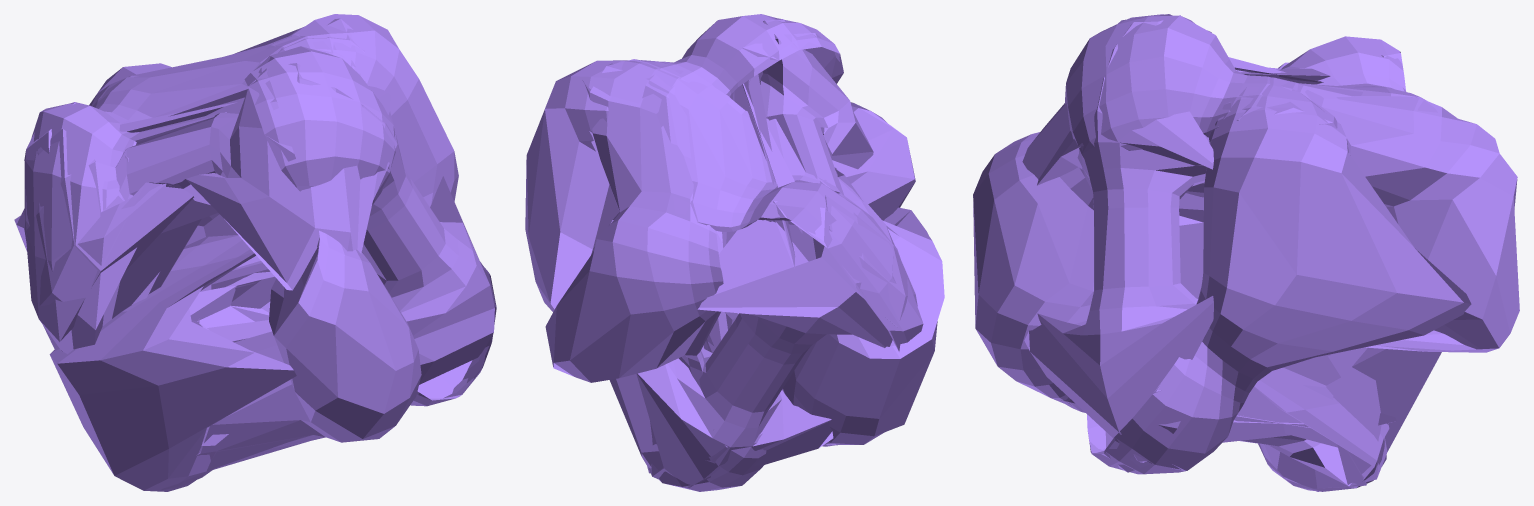
Rendered from Player_10.fbx.
3 renders of one model, left to right at view 1: azimuth 30°, elevation 25°; view 2: azimuth 150°, elevation 25°; view 3: azimuth 270°, elevation 25°, orthographic. The views are drawn at different scales.
Parts seen in each view (by area): view 1: Torus.001; view 2: Torus.001; view 3: Torus.001.
Part boxes in pixels (bbox=[...]): Torus.001: bbox=[14, 14, 496, 491]; Torus.001: bbox=[525, 14, 944, 491]; Torus.001: bbox=[973, 14, 1519, 491].
Size of the model in its own units: 439 by 454 by 475.
